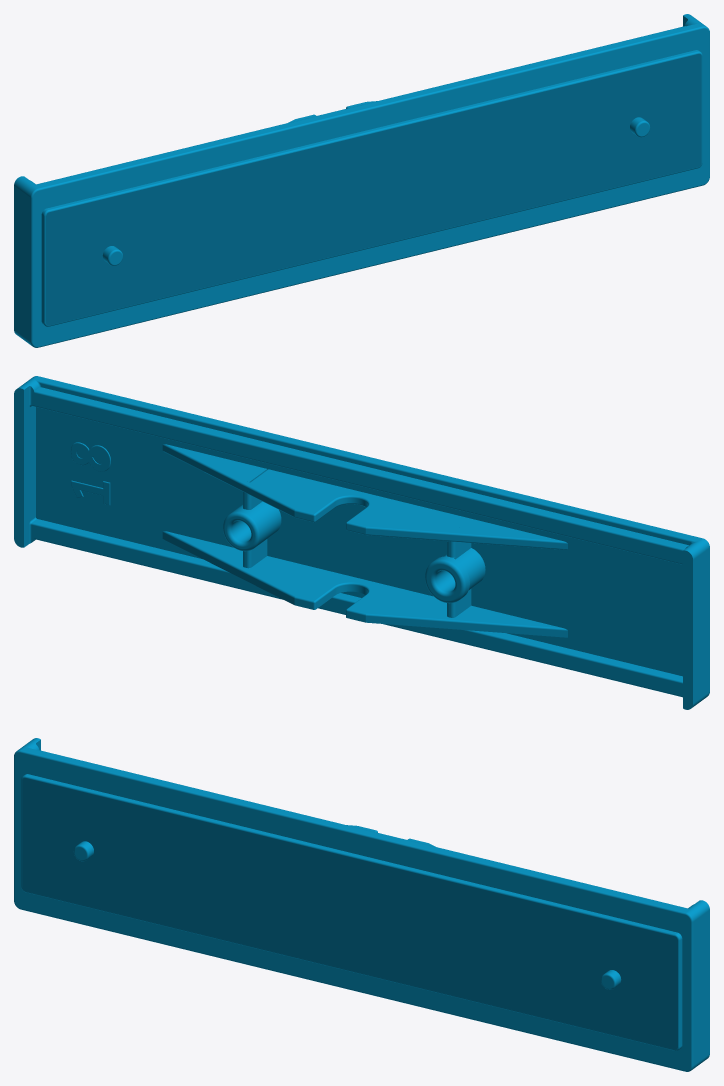
The model's file is PART 18 TEETER TOTTER.fbx.
The picture shows the model from 3 angles, top to bottom: view 1: azimuth 30°, elevation 25°; view 2: azimuth 150°, elevation 25°; view 3: azimuth 330°, elevation 25°; orthographic projection.
Visible parts, largest first — view 1: PART 18 TEETER TOTTER; view 2: PART 18 TEETER TOTTER; view 3: PART 18 TEETER TOTTER.
Boxes of the visible parts, <box> form: PART 18 TEETER TOTTER: <box>14,14,709,347</box>; PART 18 TEETER TOTTER: <box>14,376,709,709</box>; PART 18 TEETER TOTTER: <box>14,738,709,1071</box>.
Size of the model in its own units: 10.64 by 2.38 by 1.35.
